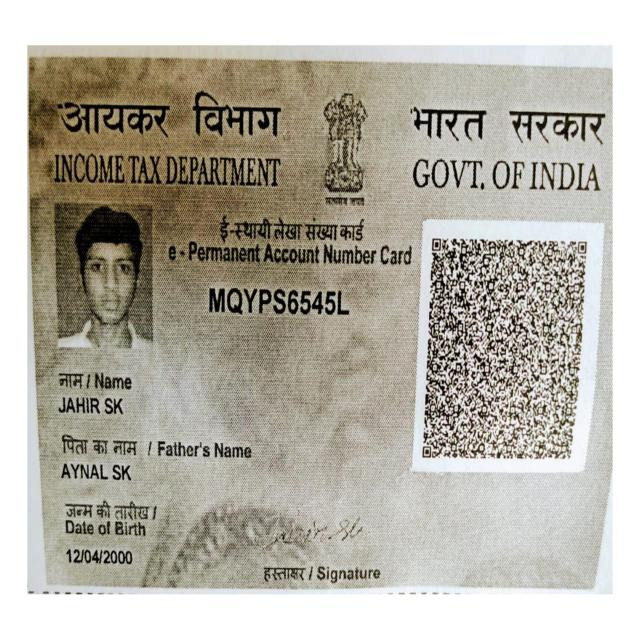pan_card: (26, 53, 613, 585)
